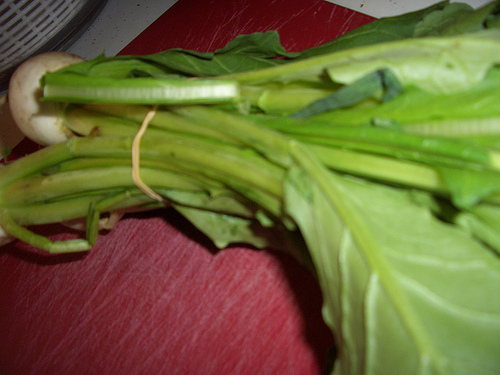turnip: (7, 50, 85, 147)
